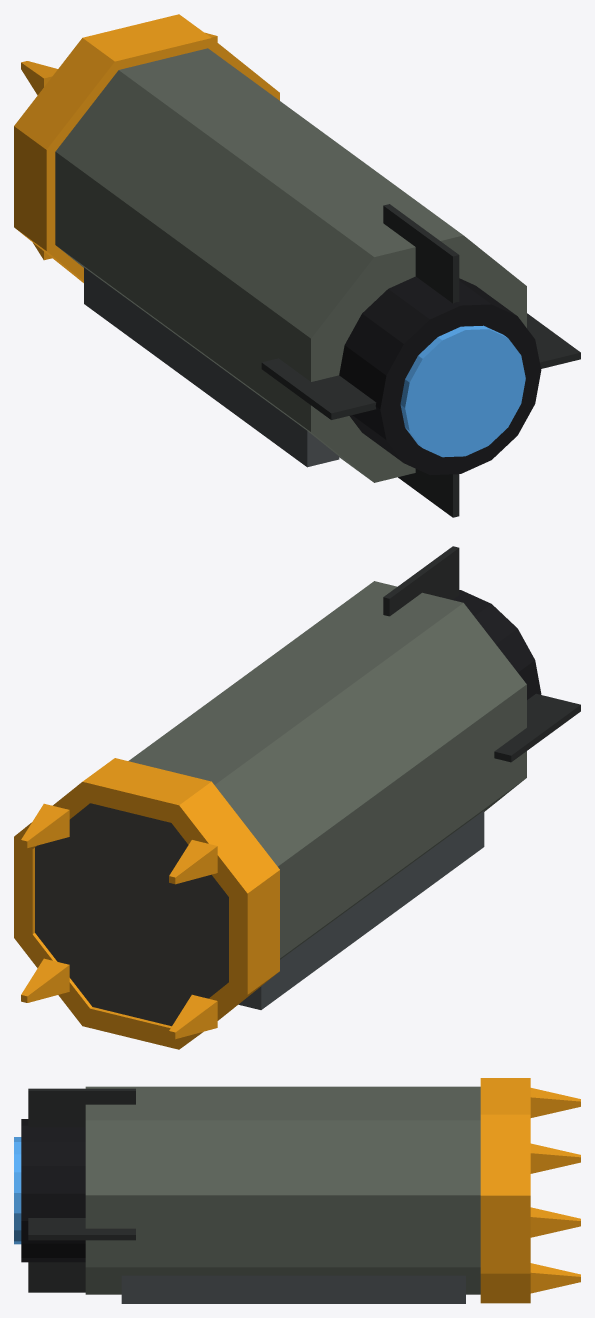
The model's file is ship_XS_POD.obj.
3 views of the same model, one above another, from view 1: azimuth 30°, elevation 25°; view 2: azimuth 150°, elevation 25°; view 3: azimuth 270°, elevation 25° (orthographic). The views are drawn at different scales.
Visible parts, largest first — view 1: XS_POD_Hull-col, XS_POD_Engines, XS_POD_Hazard, XS_POD_EngineGlow, XS_POD_Trim, XS_POD_Interior-col; view 2: XS_POD_Hull-col, XS_POD_Hatch-col, XS_POD_Hazard, XS_POD_Interior-col, XS_POD_Trim, XS_POD_Engines; view 3: XS_POD_Hull-col, XS_POD_Hazard, XS_POD_Interior-col, XS_POD_Engines, XS_POD_Trim, XS_POD_EngineGlow.
Part boxes in pixels (<box>): XS_POD_Hull-col: <box>55,48,526,482</box>; XS_POD_Engines: <box>339,276,541,475</box>; XS_POD_Hazard: <box>14,14,279,282</box>; XS_POD_EngineGlow: <box>400,325,525,457</box>; XS_POD_Trim: <box>261,204,580,517</box>; XS_POD_Interior-col: <box>84,267,339,467</box>; XS_POD_Hull-col: <box>128,581,526,959</box>; XS_POD_Hatch-col: <box>35,803,228,1026</box>; XS_POD_Hazard: <box>14,758,279,1049</box>; XS_POD_Interior-col: <box>238,811,484,1009</box>; XS_POD_Trim: <box>383,546,580,762</box>; XS_POD_Engines: <box>453,590,541,699</box>; XS_POD_Hull-col: <box>85,1086,480,1294</box>; XS_POD_Hazard: <box>480,1078,580,1303</box>; XS_POD_Interior-col: <box>121,1275,465,1303</box>; XS_POD_Engines: <box>21,1119,85,1262</box>; XS_POD_Trim: <box>28,1088,135,1292</box>; XS_POD_EngineGlow: <box>14,1137,21,1244</box>.
Size of the model in its own units: 3.1 by 3.1 by 7.9.
